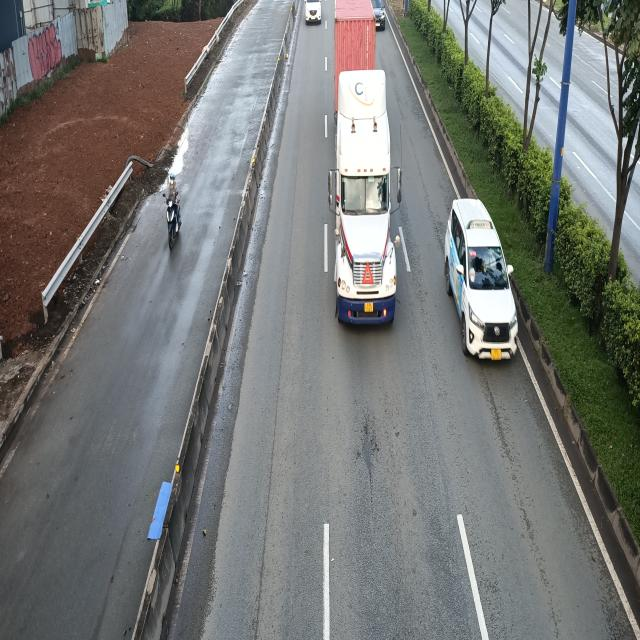car: (446, 197, 518, 363)
container: (324, 1, 399, 328)
